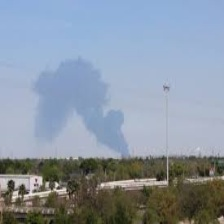smoke: (21, 59, 129, 154)
